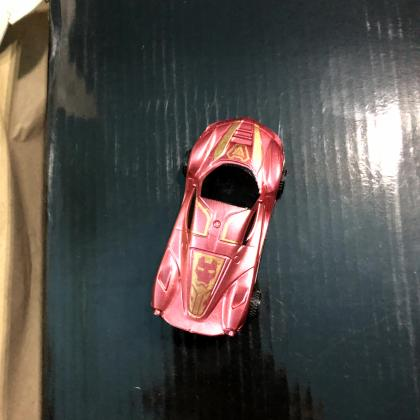Car: (151, 114, 288, 340)
